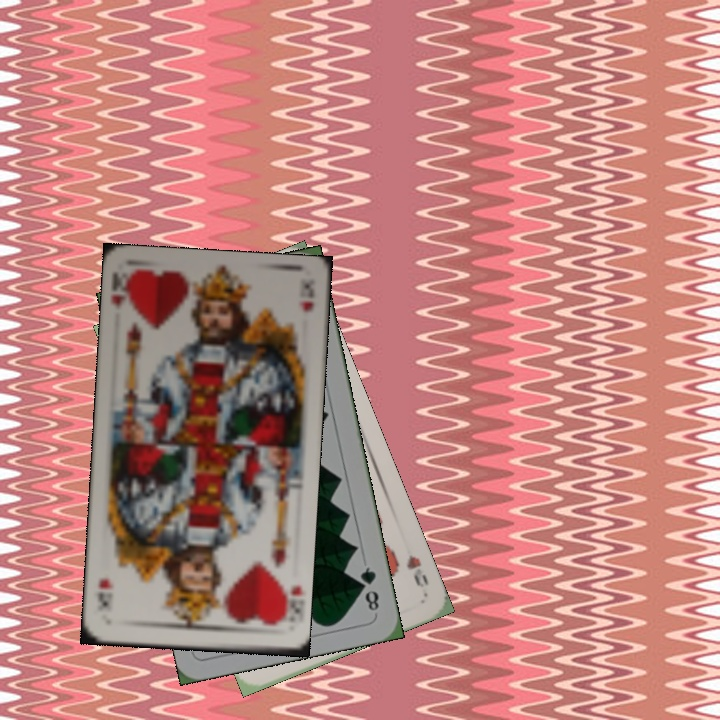G8: (355, 562, 382, 614)
H9: (402, 551, 431, 590)
HK: (275, 581, 304, 624), (108, 269, 128, 312)
